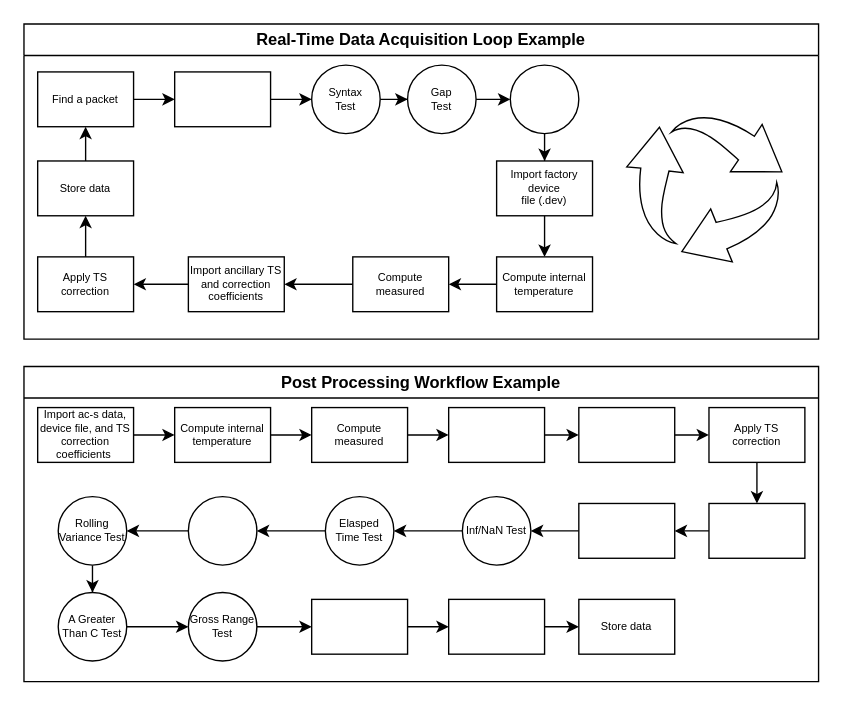
The diagram is 843 pixels wide and 706 high, and some of its shapes have lost their labels. Each missing label, with the centre of its shape:
Apply discontinuity correction: the point at 496,434
Apply scattering correction: the point at 626,530
Compute empirical data products: the point at 496,626
Elapsed Time Test: the point at 544,99
Internal Temperature Test: the point at 222,530
Interpolate to common wavelength bins: the point at 756,530
Obtain ancillary TS data: the point at 626,434
Parse the packet: the point at 222,99
Separate into constituent data products: the point at 359,626
~250 ms: the point at 703,187
